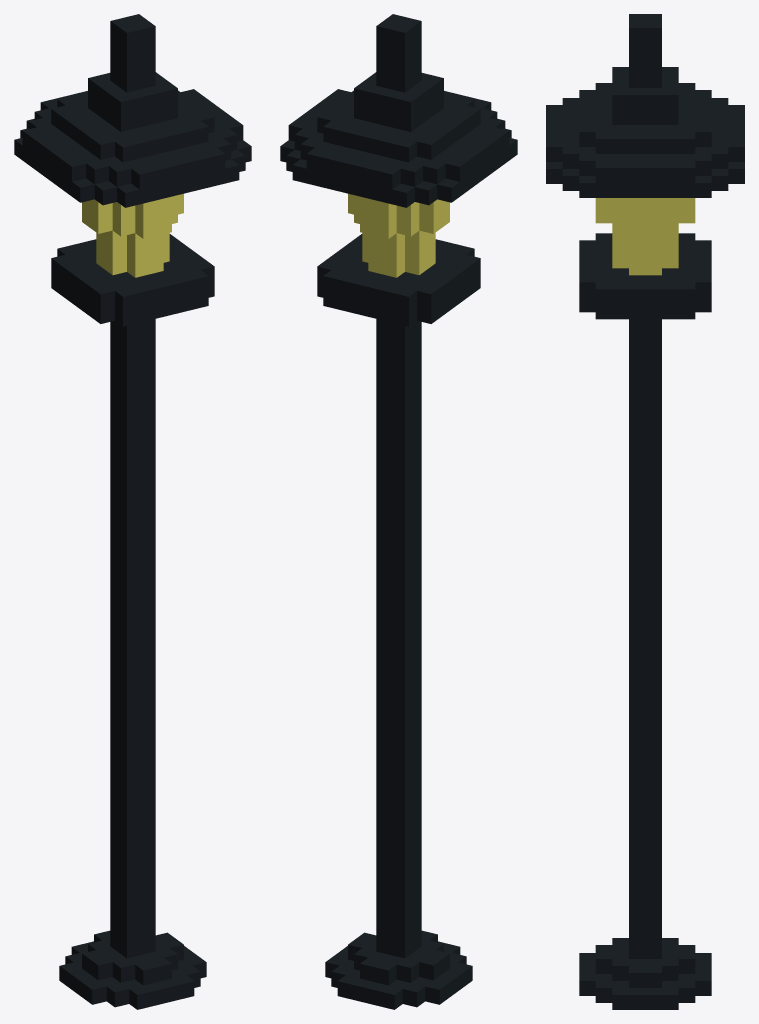
Rendered from light.obj.
3 renders of one model, left to right at view 1: azimuth 30°, elevation 25°; view 2: azimuth 150°, elevation 25°; view 3: azimuth 270°, elevation 25°, orthographic.
Size of the model in its own units: 1.2 by 6.4 by 1.2.
1 material, 1 textured.
